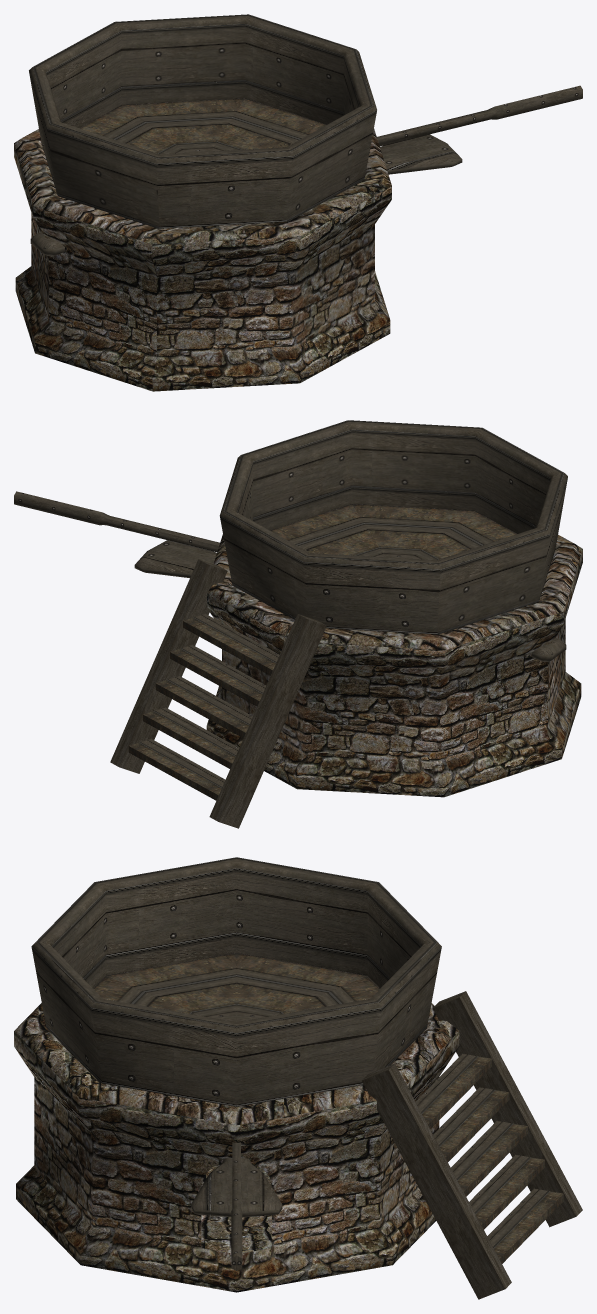
Rendered from BrewOven.fbx.
The picture shows the model from 3 angles, top to bottom: view 1: azimuth 30°, elevation 25°; view 2: azimuth 150°, elevation 25°; view 3: azimuth 270°, elevation 25°; orthographic projection. The views are drawn at different scales.
Parts seen in each view (by area): view 1: Vat, Cooker, Mixer, Beer_Scooper; view 2: Vat, Cooker, Small_Ladder, Beer_Scooper, Mixer; view 3: Vat, Cooker, Small_Ladder, Mixer, Beer_Scooper.
Part boxes in pixels (box(x1,y1,x2,y2)): Vat: box(29, 14, 376, 228); Cooker: box(14, 129, 391, 391); Mixer: box(30, 134, 462, 256); Beer_Scooper: box(377, 85, 582, 146); Vat: box(219, 420, 567, 634); Cooker: box(206, 534, 582, 797); Small_Ladder: box(110, 559, 326, 828); Beer_Scooper: box(14, 491, 219, 551); Mixer: box(134, 540, 566, 661); Vat: box(31, 857, 441, 1106); Cooker: box(14, 1003, 459, 1292); Small_Ladder: box(361, 991, 582, 1299); Mixer: box(191, 1158, 282, 1217); Beer_Scooper: box(231, 1142, 242, 1270).
Size of what is drawn, in the model's own units: 426 by 177 by 337.
Materials: 3 (3 with a texture image).
